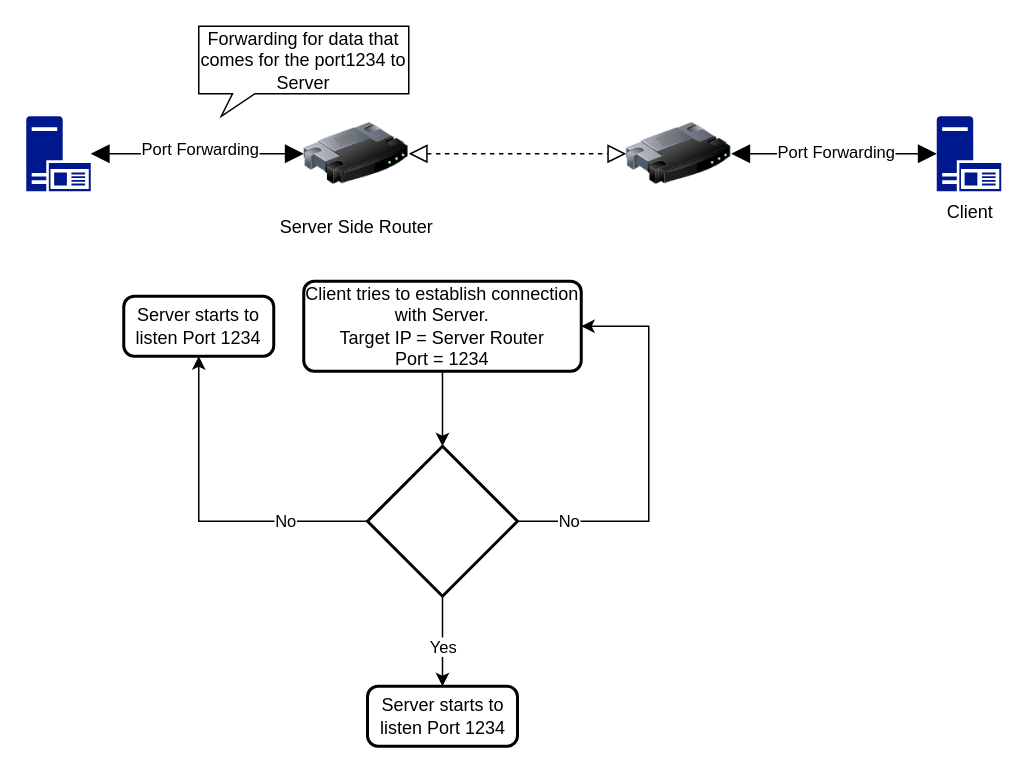
Image size: 1026x774. Some labels were removed from this diagram. The shapes that lost their labels are listed below. From the top down, each one's centre as x and y in pixels, then its label:
the point at 58,153: Server
the point at 678,153: Client Side Router
the point at 441,520: Connection Established
